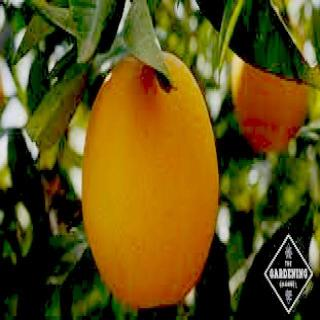orange: (75, 42, 227, 310)
